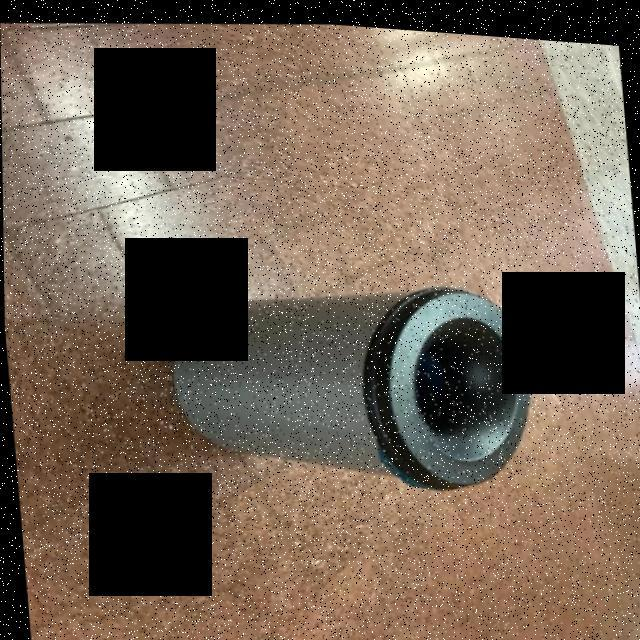bin: (162, 242, 575, 529)
